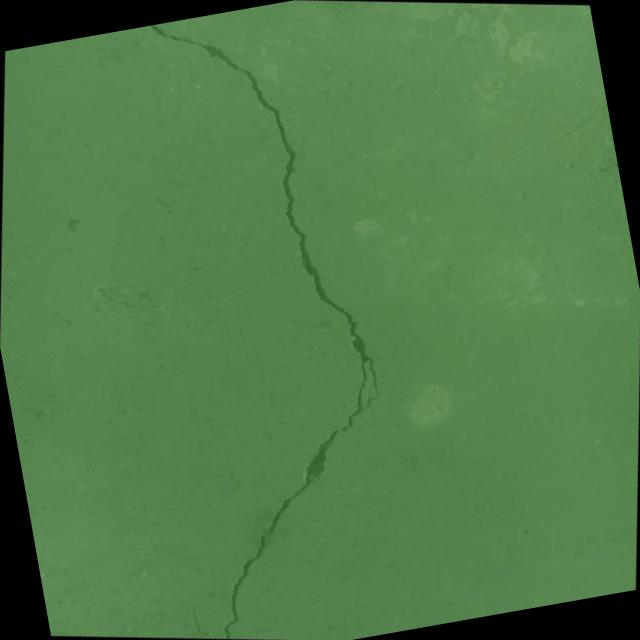crack: (20, 0, 495, 640), (185, 604, 208, 640)
